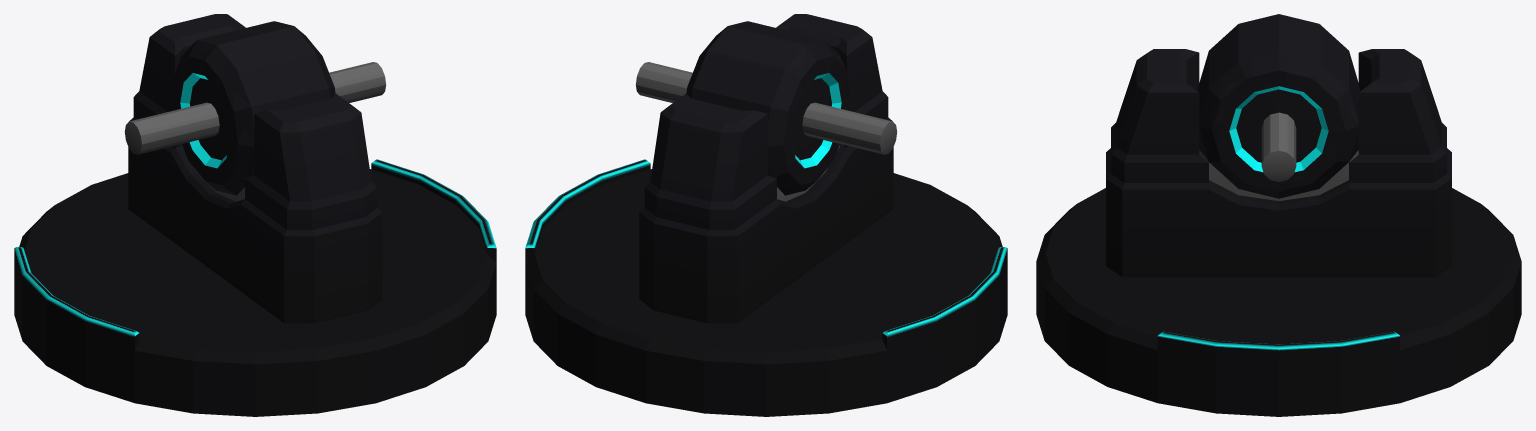
File: sentry_base_2a.glb
3 views of the same model, side by side, from view 1: azimuth 30°, elevation 25°; view 2: azimuth 150°, elevation 25°; view 3: azimuth 270°, elevation 25° (orthographic).
Visible parts, largest first — view 1: Base_2A_Object, Base_2A_Piston_Object, Base_2A_Axle_Object; view 2: Base_2A_Object, Base_2A_Piston_Object, Base_2A_Axle_Object; view 3: Base_2A_Object, Base_2A_Piston_Object, Base_2A_Axle_Object.
Part boxes in pixels (bbox=[...]): Base_2A_Object: bbox=[14, 14, 496, 416]; Base_2A_Piston_Object: bbox=[172, 21, 335, 201]; Base_2A_Axle_Object: bbox=[124, 62, 386, 154]; Base_2A_Object: bbox=[525, 14, 1007, 416]; Base_2A_Piston_Object: bbox=[686, 21, 849, 201]; Base_2A_Axle_Object: bbox=[635, 62, 897, 154]; Base_2A_Object: bbox=[1036, 49, 1521, 416]; Base_2A_Piston_Object: bbox=[1198, 14, 1359, 200]; Base_2A_Axle_Object: bbox=[1261, 112, 1296, 181].
Size of the model in its own units: 1 by 0.6396 by 1.
Materials: 2 (2 with a texture image).
